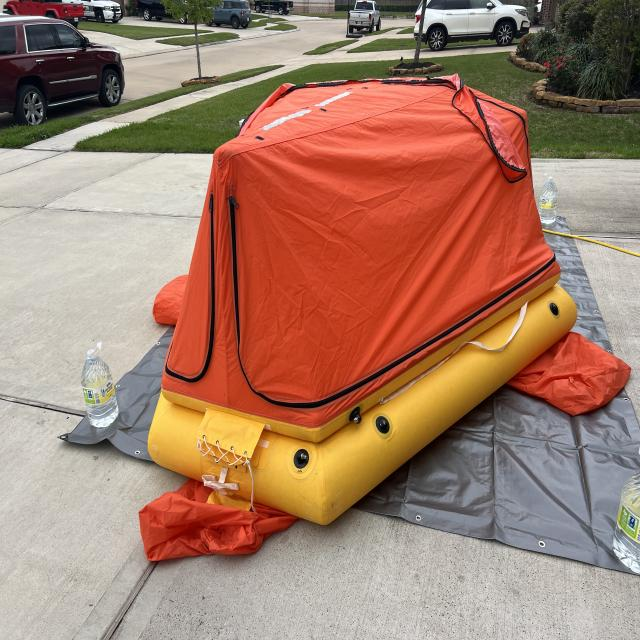Multi-person_life_raft: (138, 69, 632, 563)
